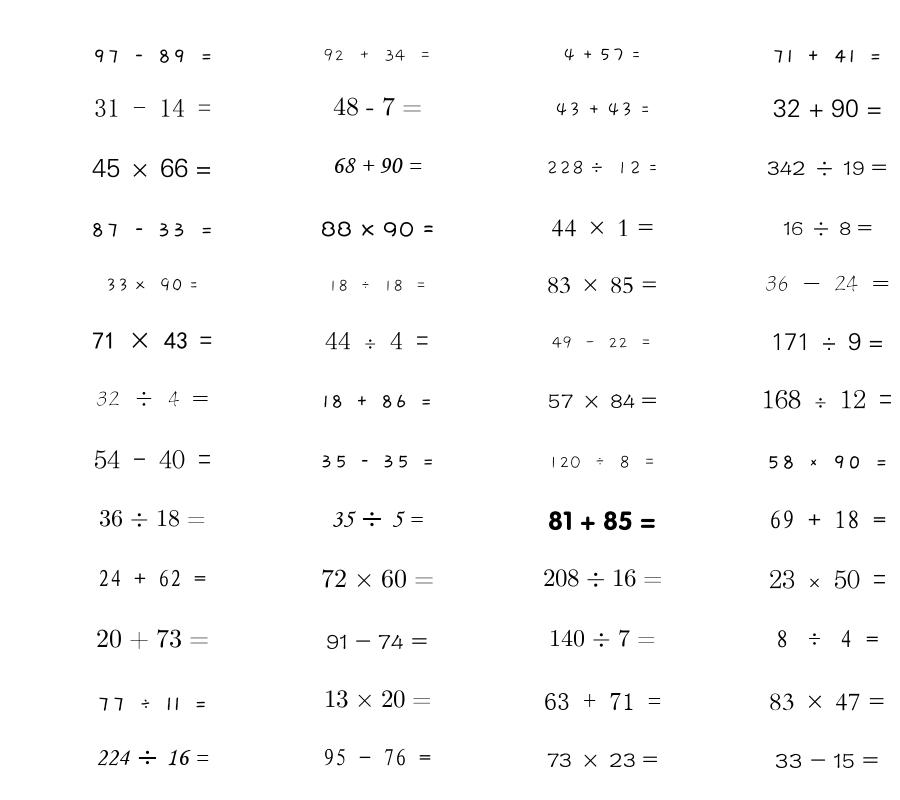MQ: (762, 389, 892, 409), (92, 158, 212, 178), (96, 629, 209, 650), (94, 449, 211, 469), (769, 569, 886, 589), (94, 98, 211, 117), (769, 510, 886, 529), (548, 511, 656, 531), (321, 569, 434, 588), (543, 569, 662, 587), (765, 275, 890, 292), (769, 693, 885, 711), (773, 99, 882, 118), (92, 332, 212, 349), (771, 333, 884, 351), (544, 693, 661, 710), (98, 569, 206, 587), (323, 748, 431, 766), (99, 509, 206, 527), (549, 629, 656, 647), (324, 690, 431, 708), (96, 749, 209, 766), (547, 277, 658, 294), (325, 332, 429, 350), (90, 222, 214, 237), (551, 219, 654, 237), (776, 630, 879, 648), (321, 221, 434, 237), (96, 391, 209, 407), (767, 161, 887, 176), (766, 455, 888, 469), (92, 49, 213, 63), (333, 97, 422, 116), (546, 160, 658, 175), (548, 394, 657, 409), (326, 634, 428, 650), (775, 753, 879, 768), (322, 394, 433, 408), (97, 697, 208, 711), (547, 753, 658, 767), (772, 49, 882, 63), (323, 48, 432, 62), (548, 455, 656, 469), (320, 455, 435, 468), (331, 511, 423, 527), (555, 102, 650, 117), (332, 158, 422, 173), (783, 221, 872, 236), (105, 278, 199, 292), (552, 336, 652, 349), (328, 279, 427, 292), (563, 48, 641, 62)
